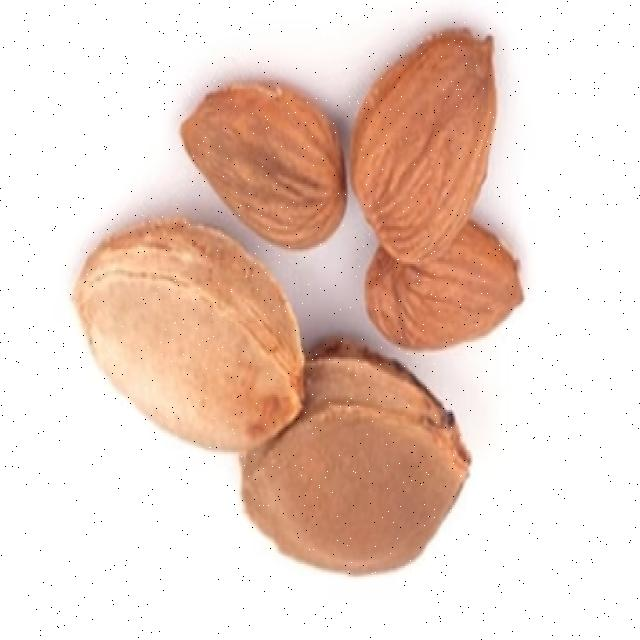kayisi cekirdegi: (233, 338, 474, 590), (69, 233, 305, 462), (346, 38, 497, 265), (178, 79, 346, 258), (366, 232, 536, 354)
